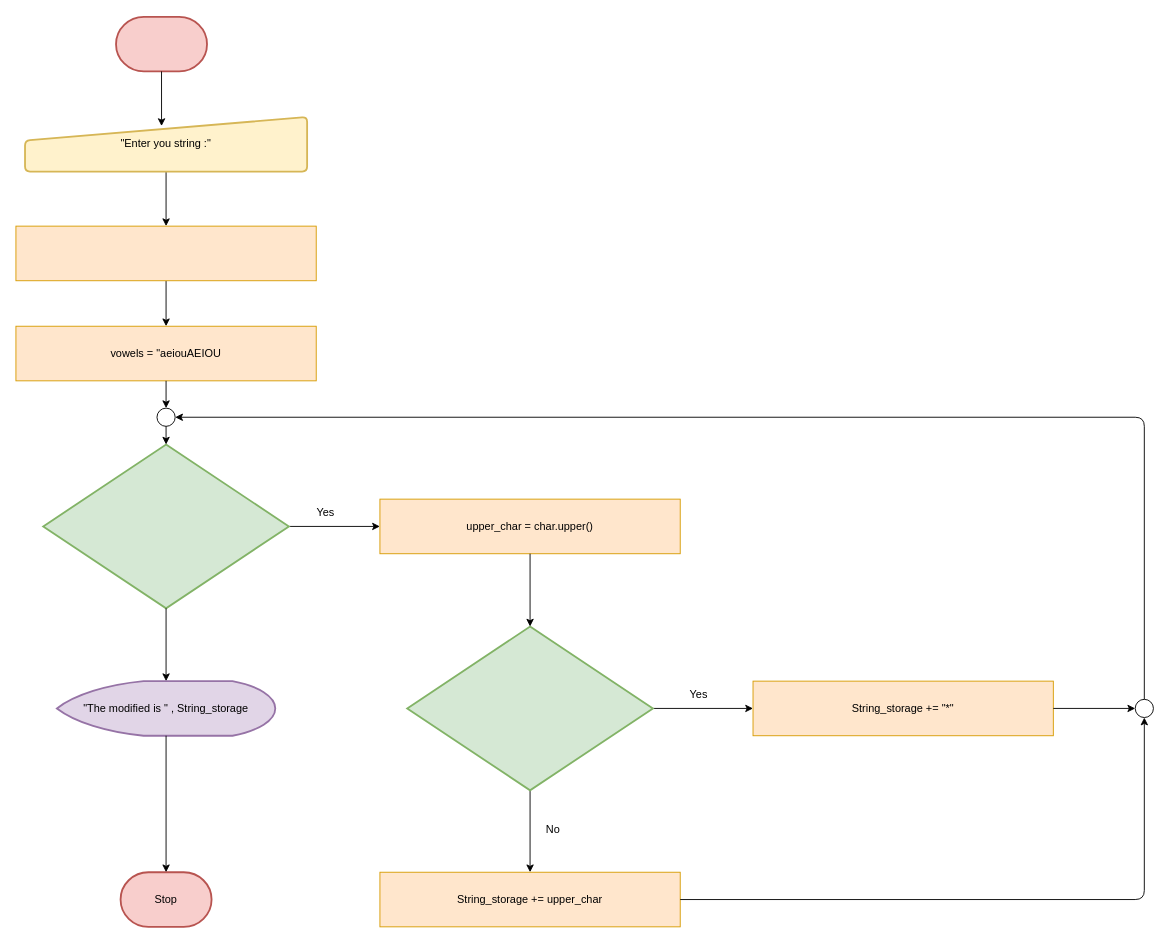
Image size: 1169x943. Some labels were removed from this diagram. The shapes that lost their labels are listed below. From the top down, each one's box as (x1, y1, x2, y2) in pixels, then its label:
(115, 15, 207, 72): Start
(15, 225, 316, 281): String_storage =" "
(42, 443, 289, 609): char in string_input
(406, 625, 653, 791): upper_char in vowels
